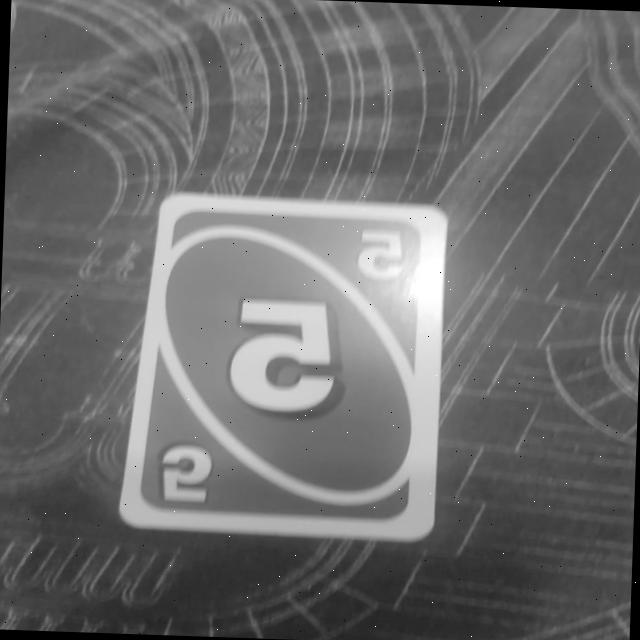card_5: (117, 190, 450, 542)
